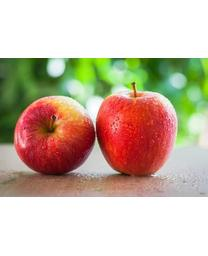apple: (95, 82, 177, 176), (13, 95, 95, 175)
